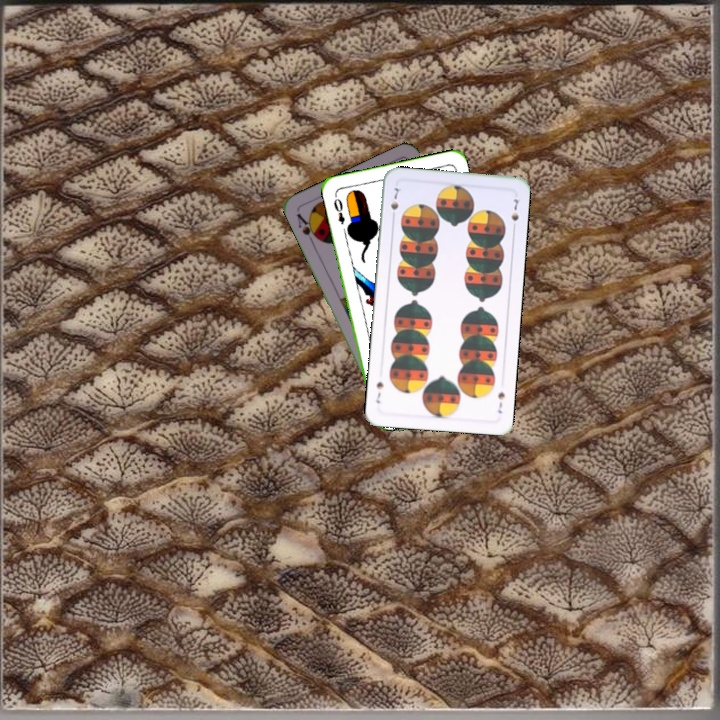EO: (330, 194, 348, 227)
S7: (386, 184, 401, 222), (494, 387, 508, 416)
SA: (293, 209, 322, 247)
